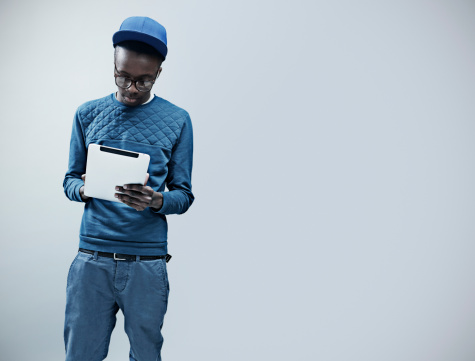em pe: (35, 27, 198, 361)
